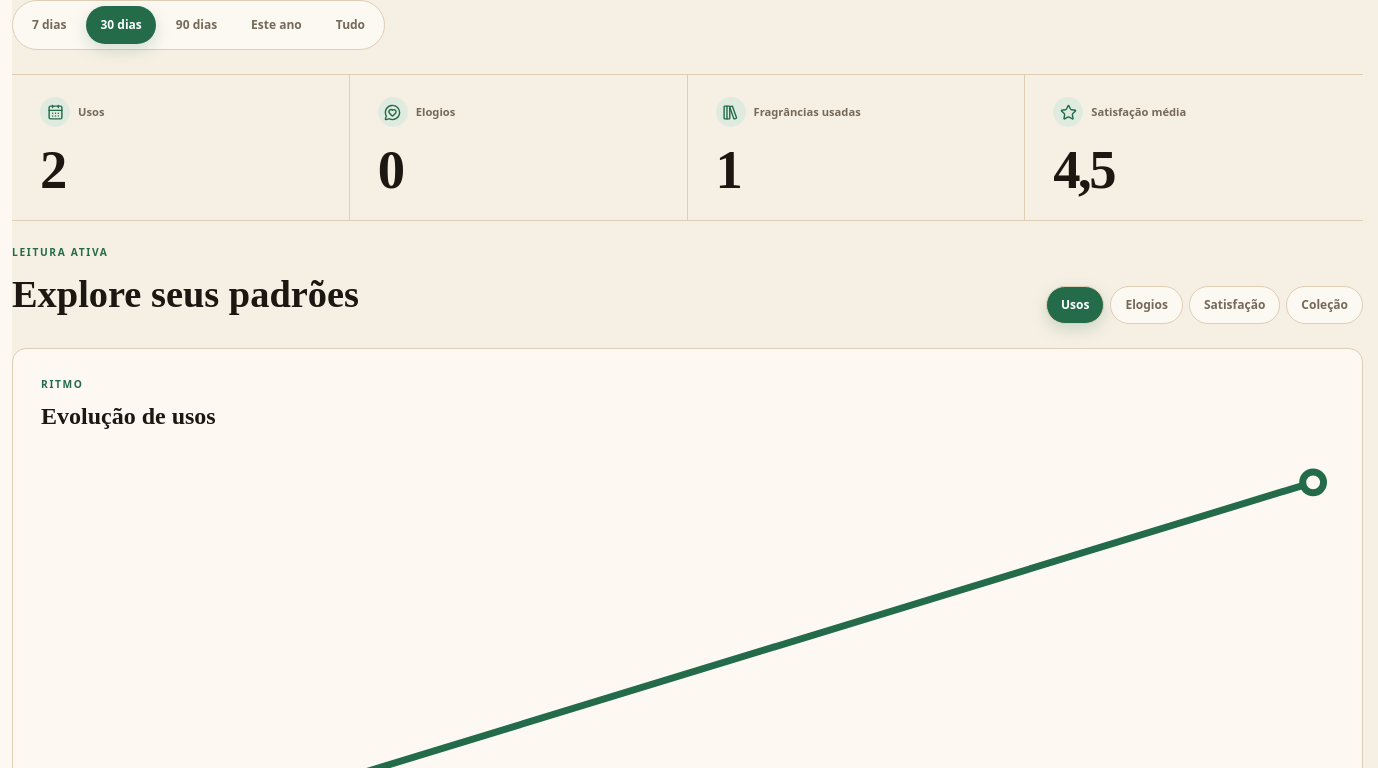
Test case: AnalyticsView › switches dimension with keyboard-accessible buttons
The image size is (1378, 768).
Click the button "Satisfação". click: (1235, 305)
box: [1189, 286, 1280, 324]
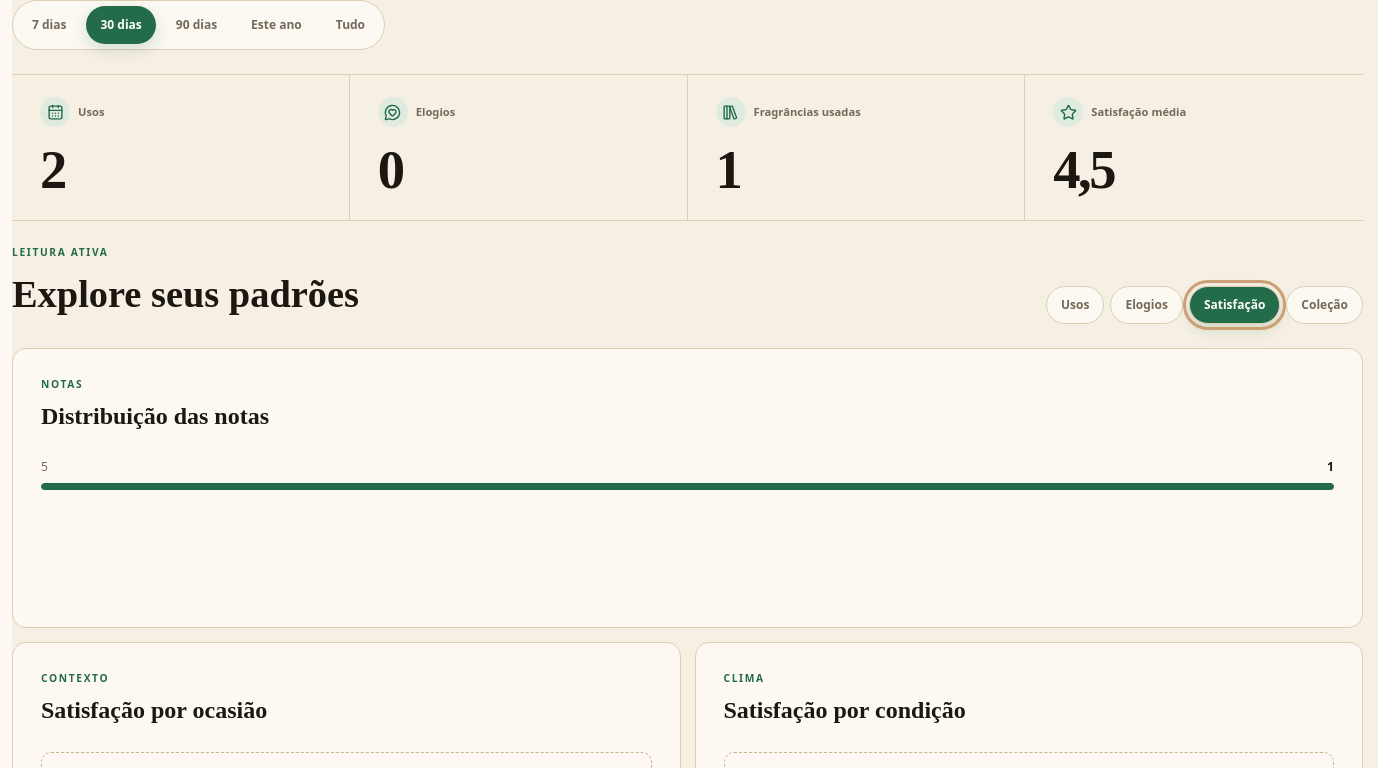
Result: the heading "Distribuição das notas" is shown at [41, 403, 269, 429]
